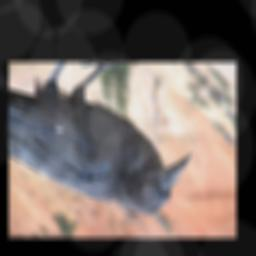Crow: (10, 62, 192, 219)
